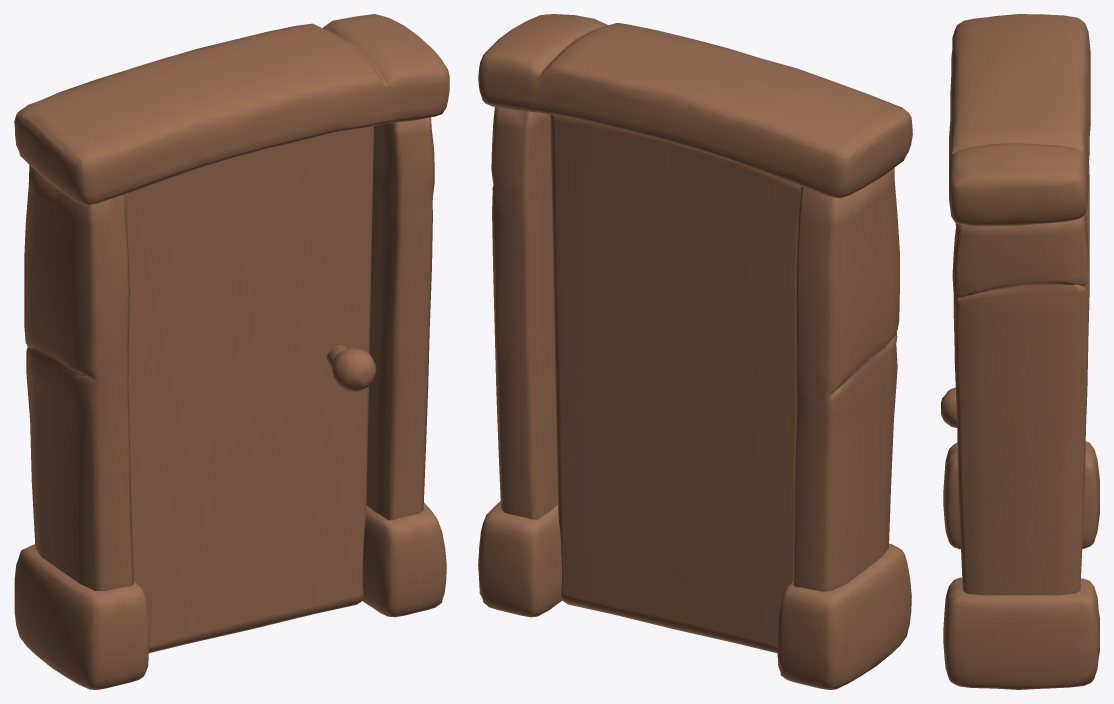
The model's file is selected.glb.
The picture shows the model from 3 angles, left to right: view 1: azimuth 30°, elevation 25°; view 2: azimuth 150°, elevation 25°; view 3: azimuth 270°, elevation 25°; orthographic projection. The views are drawn at different scales.
Parts seen in each view (by area): view 1: tripo_node_a45b548c-0b17-4bbf-989f-359bbf21b31e; view 2: tripo_node_a45b548c-0b17-4bbf-989f-359bbf21b31e; view 3: tripo_node_a45b548c-0b17-4bbf-989f-359bbf21b31e.
Part boxes in pixels (box(x1,y1,x2,y2)): tripo_node_a45b548c-0b17-4bbf-989f-359bbf21b31e: box(14, 14, 449, 689); tripo_node_a45b548c-0b17-4bbf-989f-359bbf21b31e: box(478, 14, 912, 689); tripo_node_a45b548c-0b17-4bbf-989f-359bbf21b31e: box(941, 14, 1099, 689).
Size of the model in its own units: 0.709 by 0.998 by 0.2715.
Materials: 1 (1 with a texture image).
